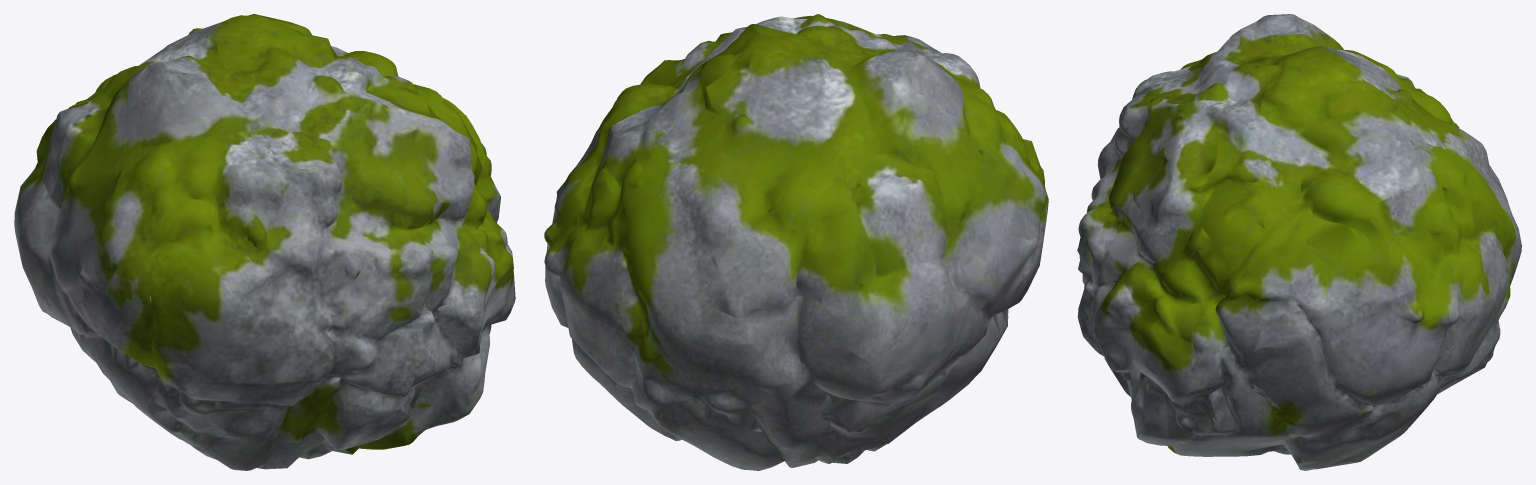
The model's file is prop-boulder.glb.
3 views of the same model, side by side, from view 1: azimuth 30°, elevation 25°; view 2: azimuth 150°, elevation 25°; view 3: azimuth 270°, elevation 25° (orthographic). The views are drawn at different scales.
Bounding box in the file's own units: 1.91 × 1.68 × 1.88.
Materials: 1 (1 with a texture image).
